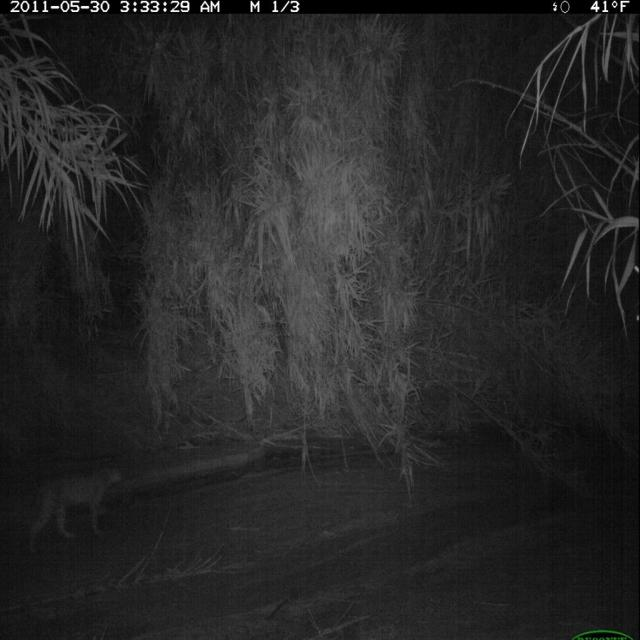bobcat: (25, 462, 135, 562)
